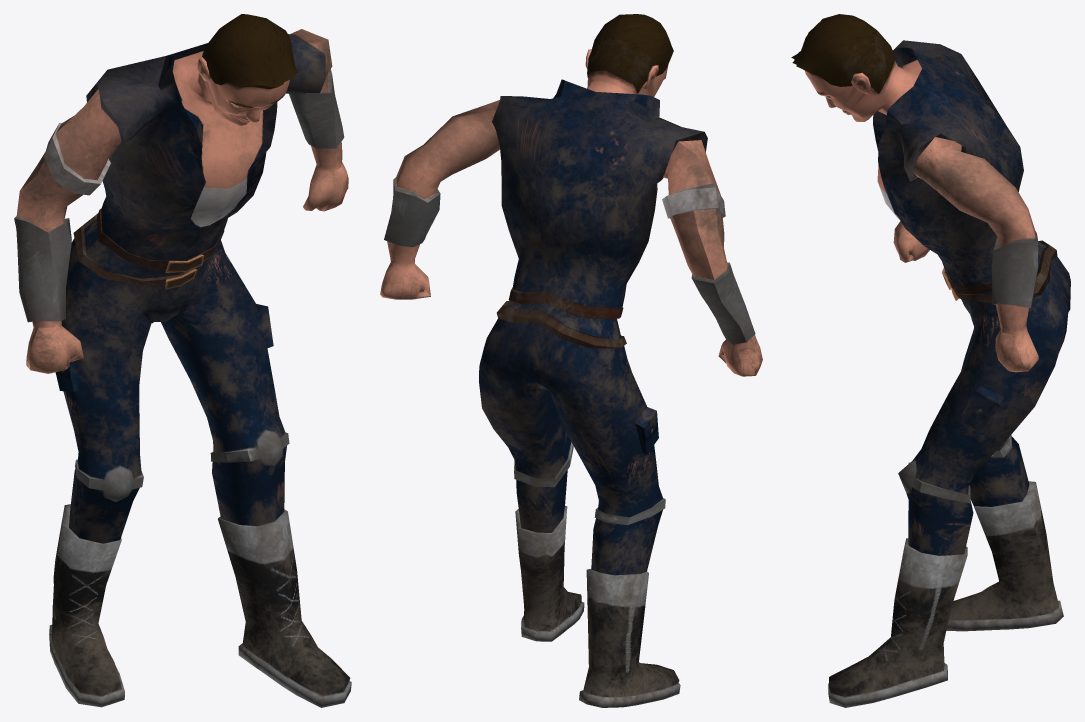
File: Anim_coger_objeto_jugador.0022.obj
3 renders of one model, left to right at view 1: azimuth 30°, elevation 25°; view 2: azimuth 150°, elevation 25°; view 3: azimuth 270°, elevation 25°, orthographic. The views are drawn at different scales.
Parts seen in each view (by area): view 1: polySurface1; view 2: polySurface1; view 3: polySurface1.
Boxes of the visible parts, x1,y1,x2,y2 form: polySurface1: [14, 14, 351, 707]; polySurface1: [380, 14, 762, 707]; polySurface1: [791, 14, 1070, 707].
Bounding box in the file's own units: 4.92 × 8.87 × 3.47.
